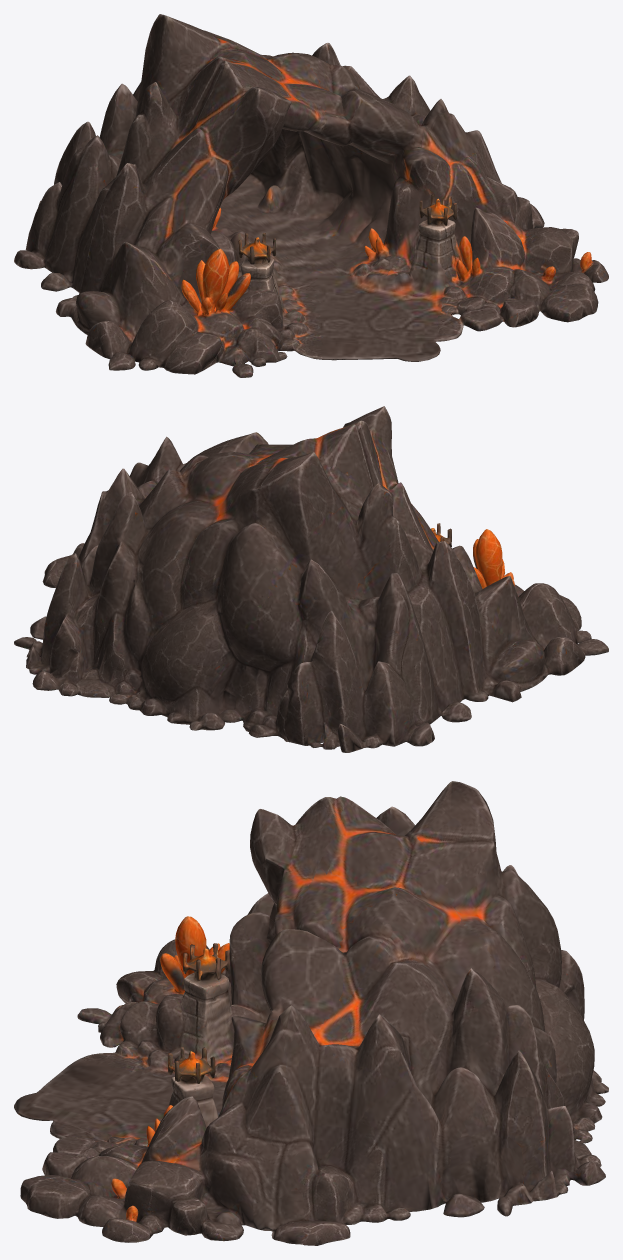
3 renders of one model, top to bottom at view 1: azimuth 30°, elevation 25°; view 2: azimuth 150°, elevation 25°; view 3: azimuth 270°, elevation 25°, orthographic. The views are drawn at different scales.
Size of the model in its own units: 9.86 by 4.55 by 8.69.
1 material, 1 textured.
